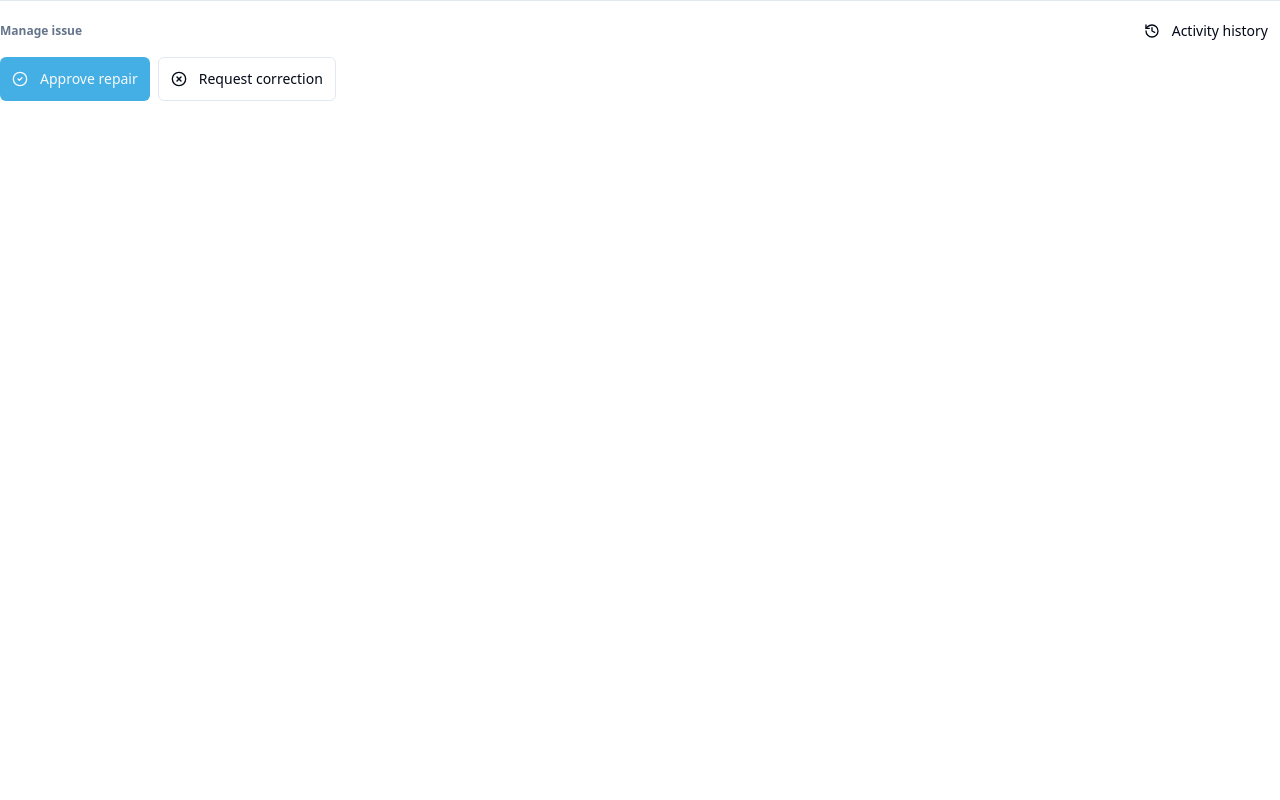
Test: maintenance manager workflow › requires an explanation before rejecting a submitted repair
The image size is (1280, 800).
Later steps or results of the test are not shown.
Click the button "Request correction" at (247, 79), box [158,57,336,101]
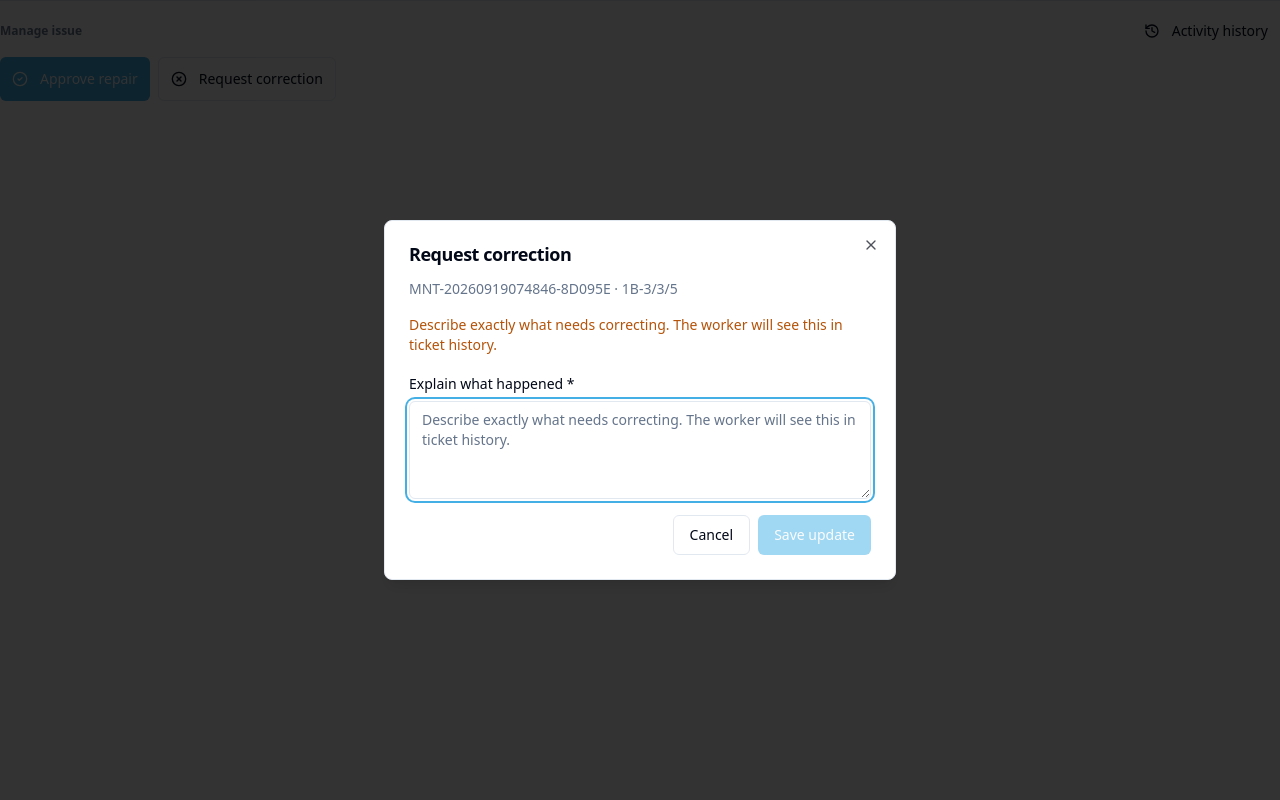
expect the button "Save update" is disabled: met, box [758,515,871,555]
Replace the text in the text box labelled "Explain what happened *" with "Repair not completed correctly" at (640, 450), box [409,401,871,499]
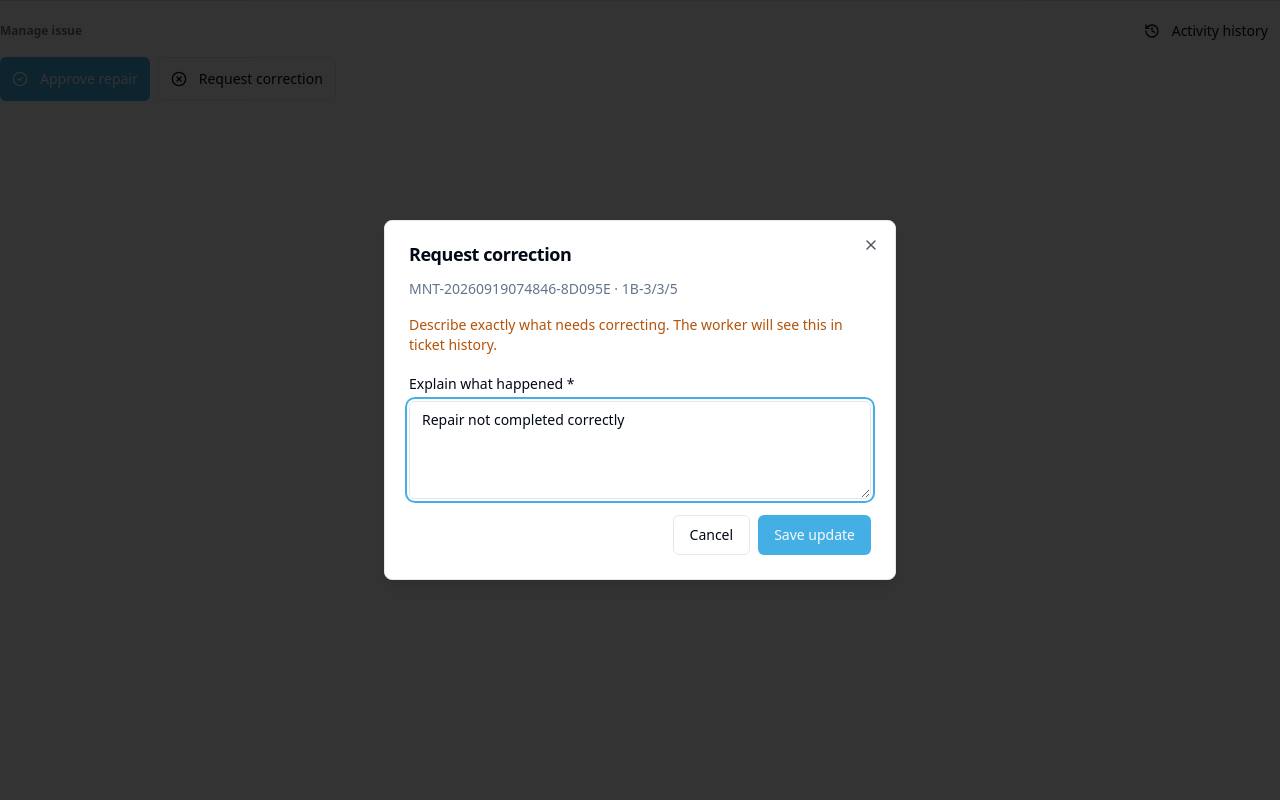
expect the button "Save update" is enabled: met, box [758,515,871,555]
